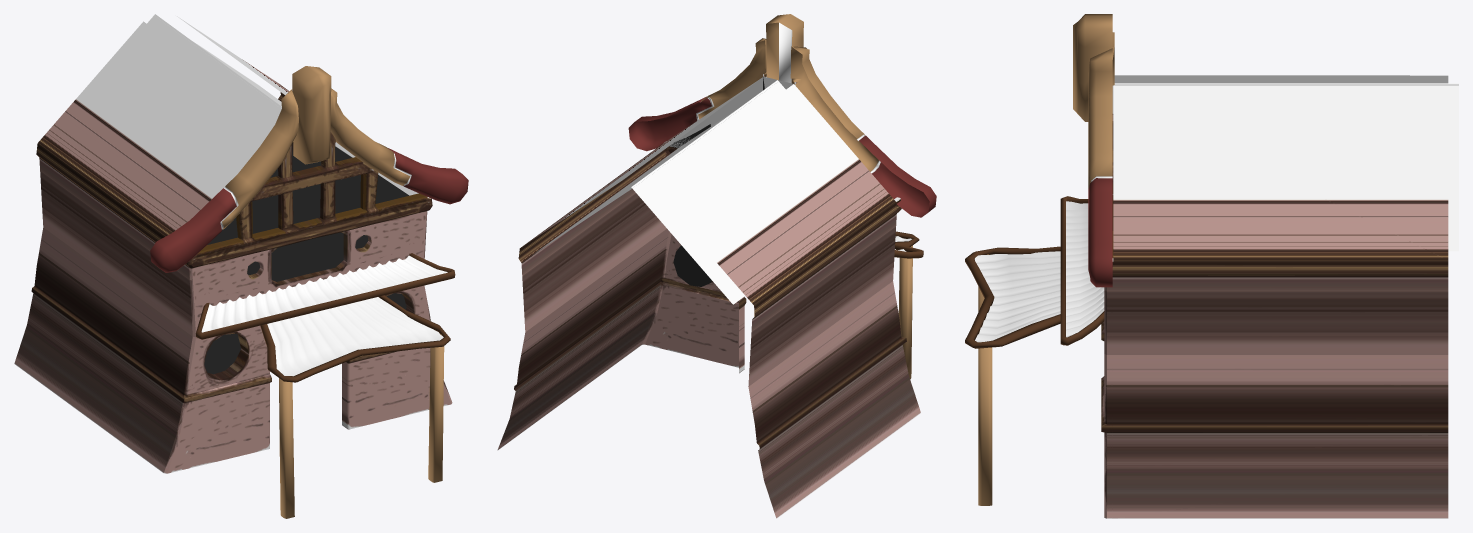
File: lilhouse.glb
The picture shows the model from 3 angles, left to right: view 1: azimuth 30°, elevation 25°; view 2: azimuth 150°, elevation 25°; view 3: azimuth 270°, elevation 25°; orthographic projection. The views are drawn at different scales.
Visible parts, largest first — view 1: LILHOUSEFRONT.001, LILHOUSEFRONT.005; view 2: LILHOUSEFRONT.001, LILHOUSEFRONT.005; view 3: LILHOUSEFRONT.001, LILHOUSEFRONT.005.
Boxes of the visible parts, box(x1,y1,x2,y2) form: LILHOUSEFRONT.001: box(14, 14, 452, 473); LILHOUSEFRONT.005: box(150, 66, 468, 518); LILHOUSEFRONT.001: box(497, 74, 920, 518); LILHOUSEFRONT.005: box(628, 14, 936, 379); LILHOUSEFRONT.001: box(1101, 75, 1458, 518); LILHOUSEFRONT.005: box(965, 14, 1114, 505).
Bounding box in the file's own units: 2.87 × 3.44 × 3.45.
Materials: 7 (2 with a texture image).
